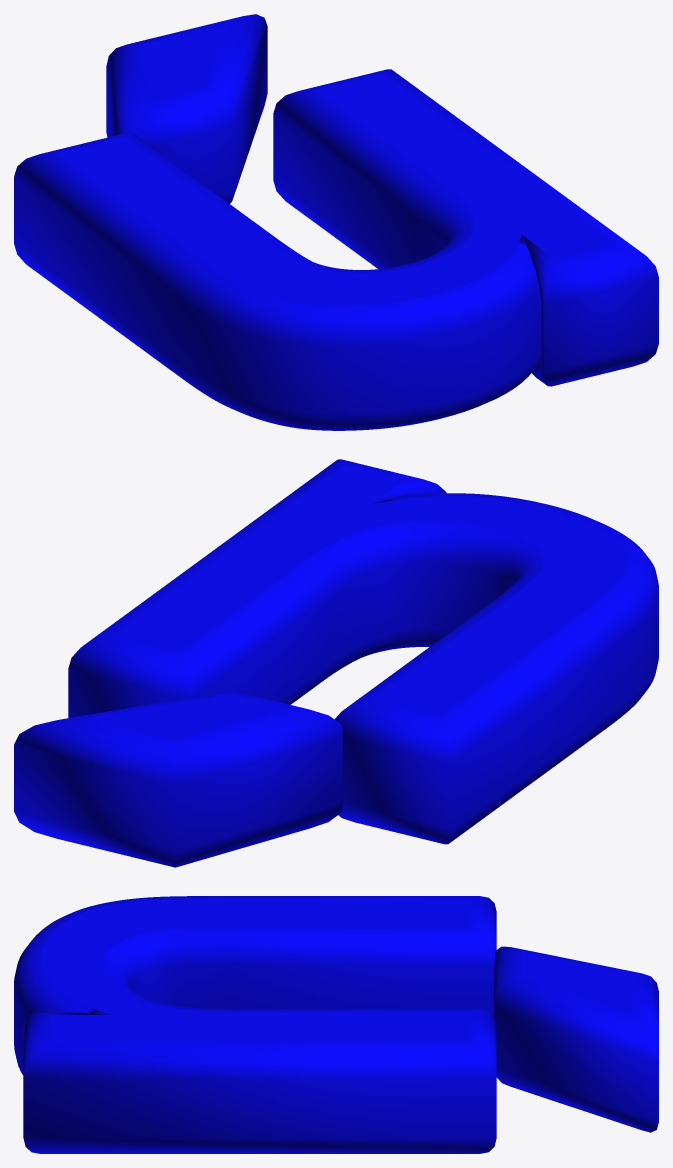
3 views of the same model, one above another, from view 1: azimuth 30°, elevation 25°; view 2: azimuth 150°, elevation 25°; view 3: azimuth 270°, elevation 25° (orthographic). The views are drawn at different scales.
Visible parts, largest first — view 1: texto; view 2: texto; view 3: texto.
Boxes of the visible parts, left/top/right/bottom form: texto: left=14, top=14, right=658, bottom=430; texto: left=14, top=459, right=658, bottom=867; texto: left=14, top=896, right=658, bottom=1153.
Bounding box in the file's own units: 0.7174 × 0.22 × 1.17.
